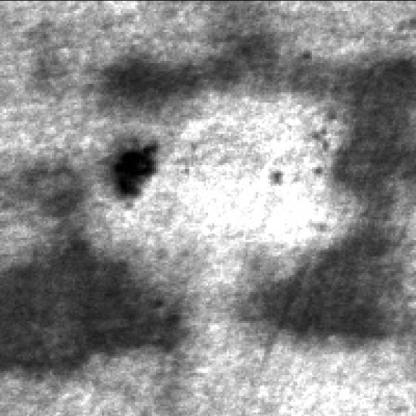inclusion: (112, 142, 166, 208)
patches: (232, 37, 416, 355), (4, 242, 193, 376), (100, 34, 285, 116), (27, 166, 89, 223)
